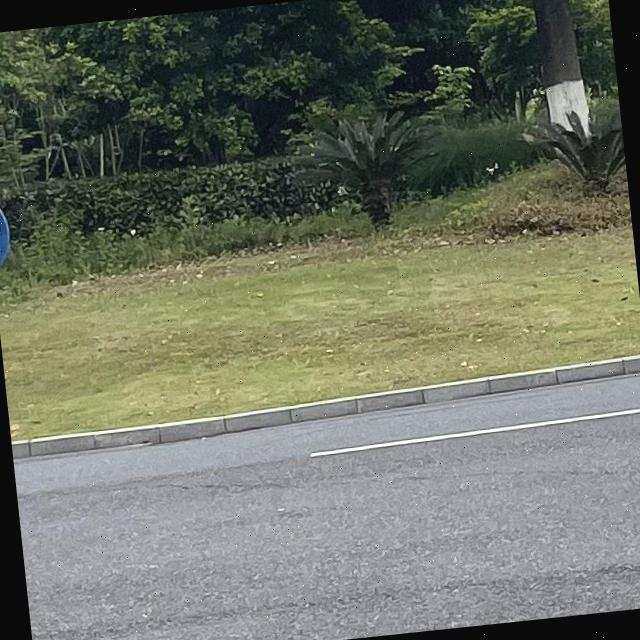curb: (11, 355, 640, 459)
